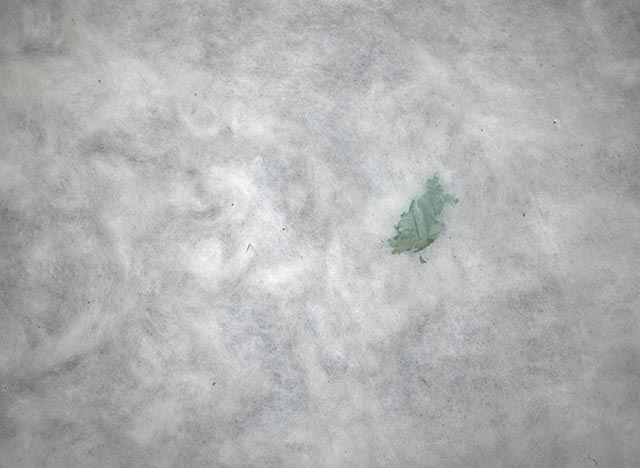plastic film: (386, 171, 460, 266)
